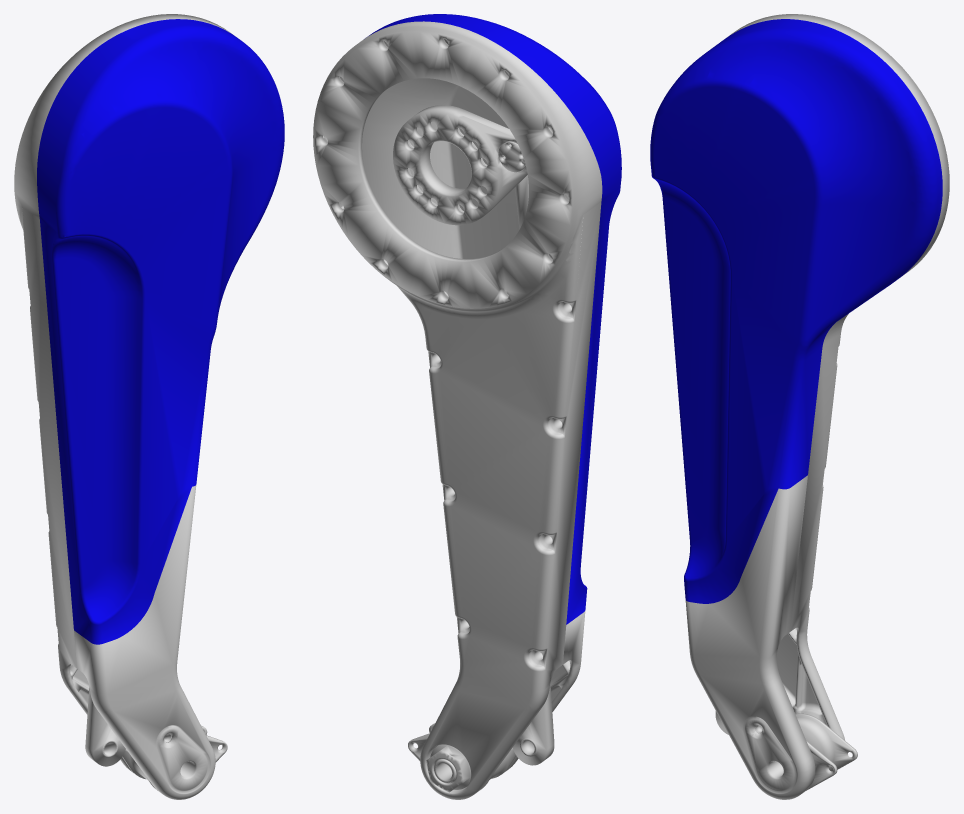
The model's file is thigh_mirror.dae.
The picture shows the model from 3 angles, left to right: view 1: azimuth 30°, elevation 25°; view 2: azimuth 150°, elevation 25°; view 3: azimuth 330°, elevation 25°; orthographic projection. The views are drawn at different scales.
Parts seen in each view (by area): view 1: Right_tight; view 2: Right_tight; view 3: Right_tight.
Boxes of the visible parts, x1=… form: Right_tight: x1=14, y1=14, x2=284, y2=799; Right_tight: x1=313, y1=14, x2=621, y2=799; Right_tight: x1=650, y1=14, x2=949, y2=799.
Bounding box in the file's own units: 0.17 × 0.055 × 0.475.
